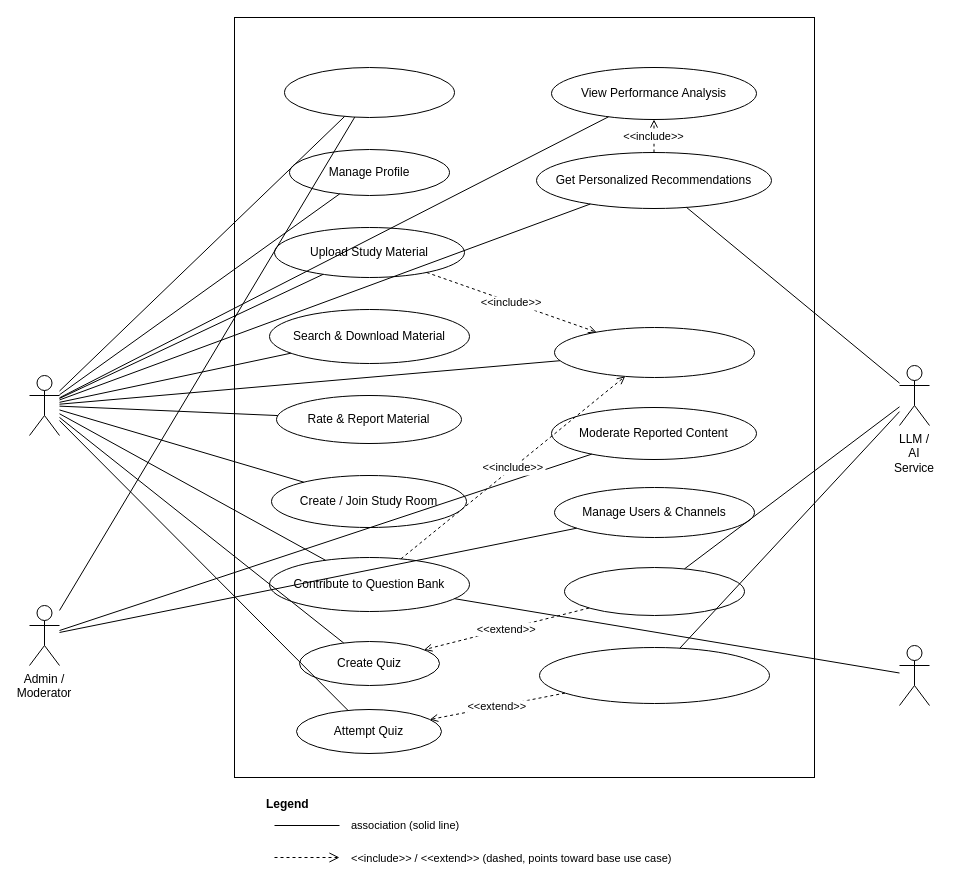
Some shapes in this 957 by 887 pixel diagram are drawn without their labels. The box of each missing label's shape, as (x1, y1, x2, y2) in pixels:
Collaborative Study Material & Online Quiz Platform: (234, 16, 814, 778)
Evaluate Descriptive Answers (AI): (538, 646, 770, 704)
External Resource: (898, 644, 930, 706)
Generate Quiz (AI): (564, 566, 744, 616)
Register & Login: (284, 66, 454, 118)
Student / User: (28, 374, 60, 436)
Track Reputation & Badges: (554, 326, 754, 378)
